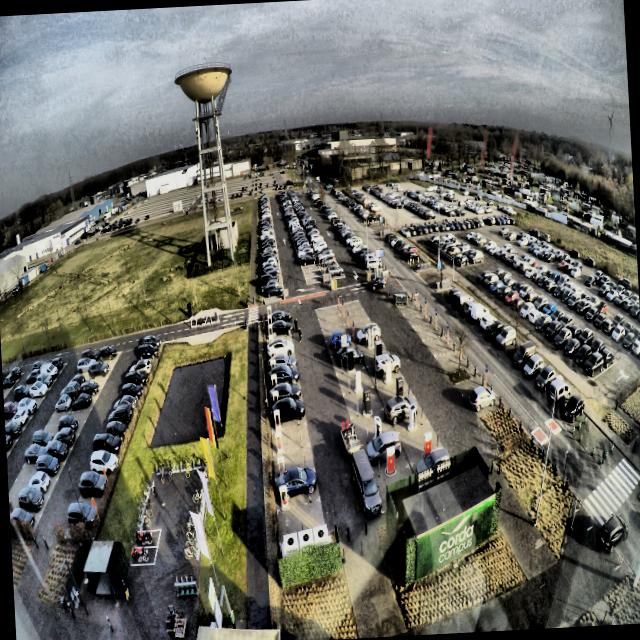cabinet: (283, 526, 329, 552)
car: (274, 463, 318, 501), (270, 396, 306, 427), (267, 363, 301, 386), (268, 382, 301, 405), (266, 352, 297, 373), (266, 338, 295, 357), (267, 319, 295, 337), (271, 309, 293, 325)
parking: (275, 469, 320, 509), (278, 501, 325, 539), (273, 443, 314, 478), (271, 424, 310, 454), (269, 405, 306, 431), (268, 385, 303, 410), (268, 370, 300, 391), (268, 356, 297, 374), (267, 344, 295, 361), (266, 335, 293, 349), (265, 325, 291, 338), (265, 315, 289, 328)
supercharger: (279, 486, 288, 509), (277, 456, 286, 479), (275, 430, 283, 453), (274, 409, 282, 430), (271, 373, 278, 391), (272, 391, 279, 407), (270, 358, 276, 373), (269, 346, 275, 360), (268, 335, 274, 346), (267, 314, 272, 325), (268, 324, 273, 334), (267, 306, 271, 316)
